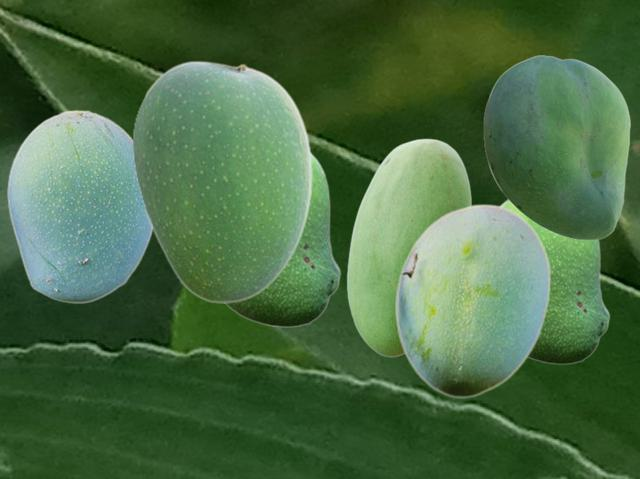green_mango: (132, 60, 312, 302), (394, 203, 550, 397), (6, 109, 152, 303), (346, 138, 470, 356), (483, 55, 629, 239), (223, 152, 340, 327), (500, 200, 609, 364)
